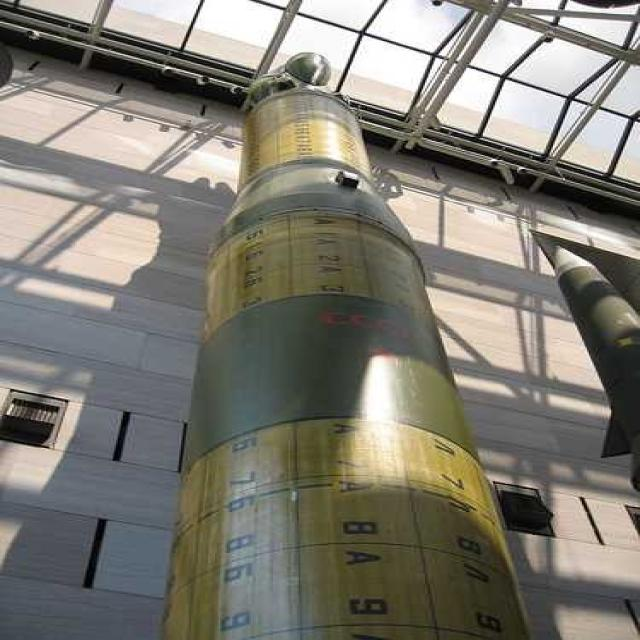missile: (167, 52, 520, 640)
